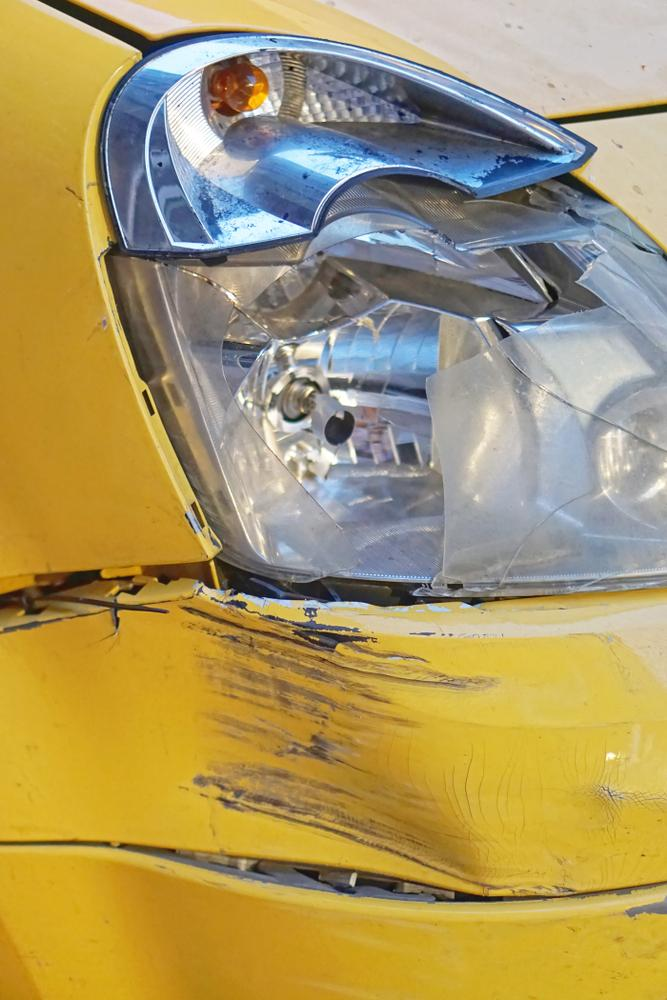dent: (0, 603, 480, 892)
lamp broken: (108, 36, 667, 602)
scratch: (298, 615, 513, 695)
